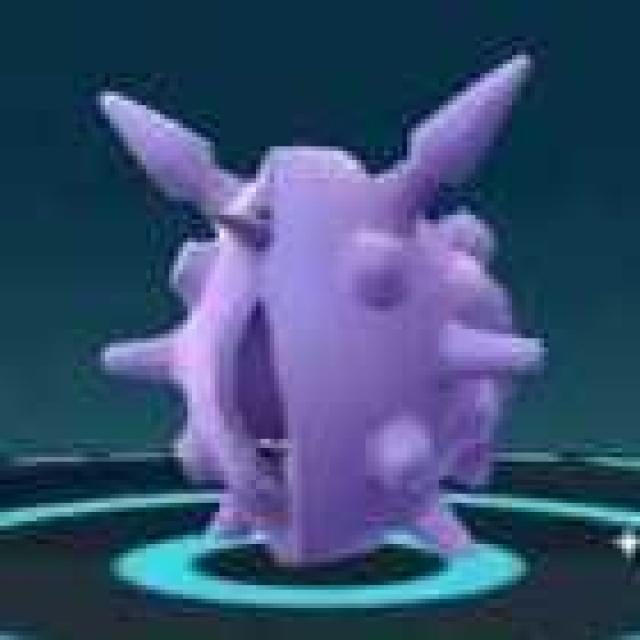Cloyster: (98, 59, 541, 568)
